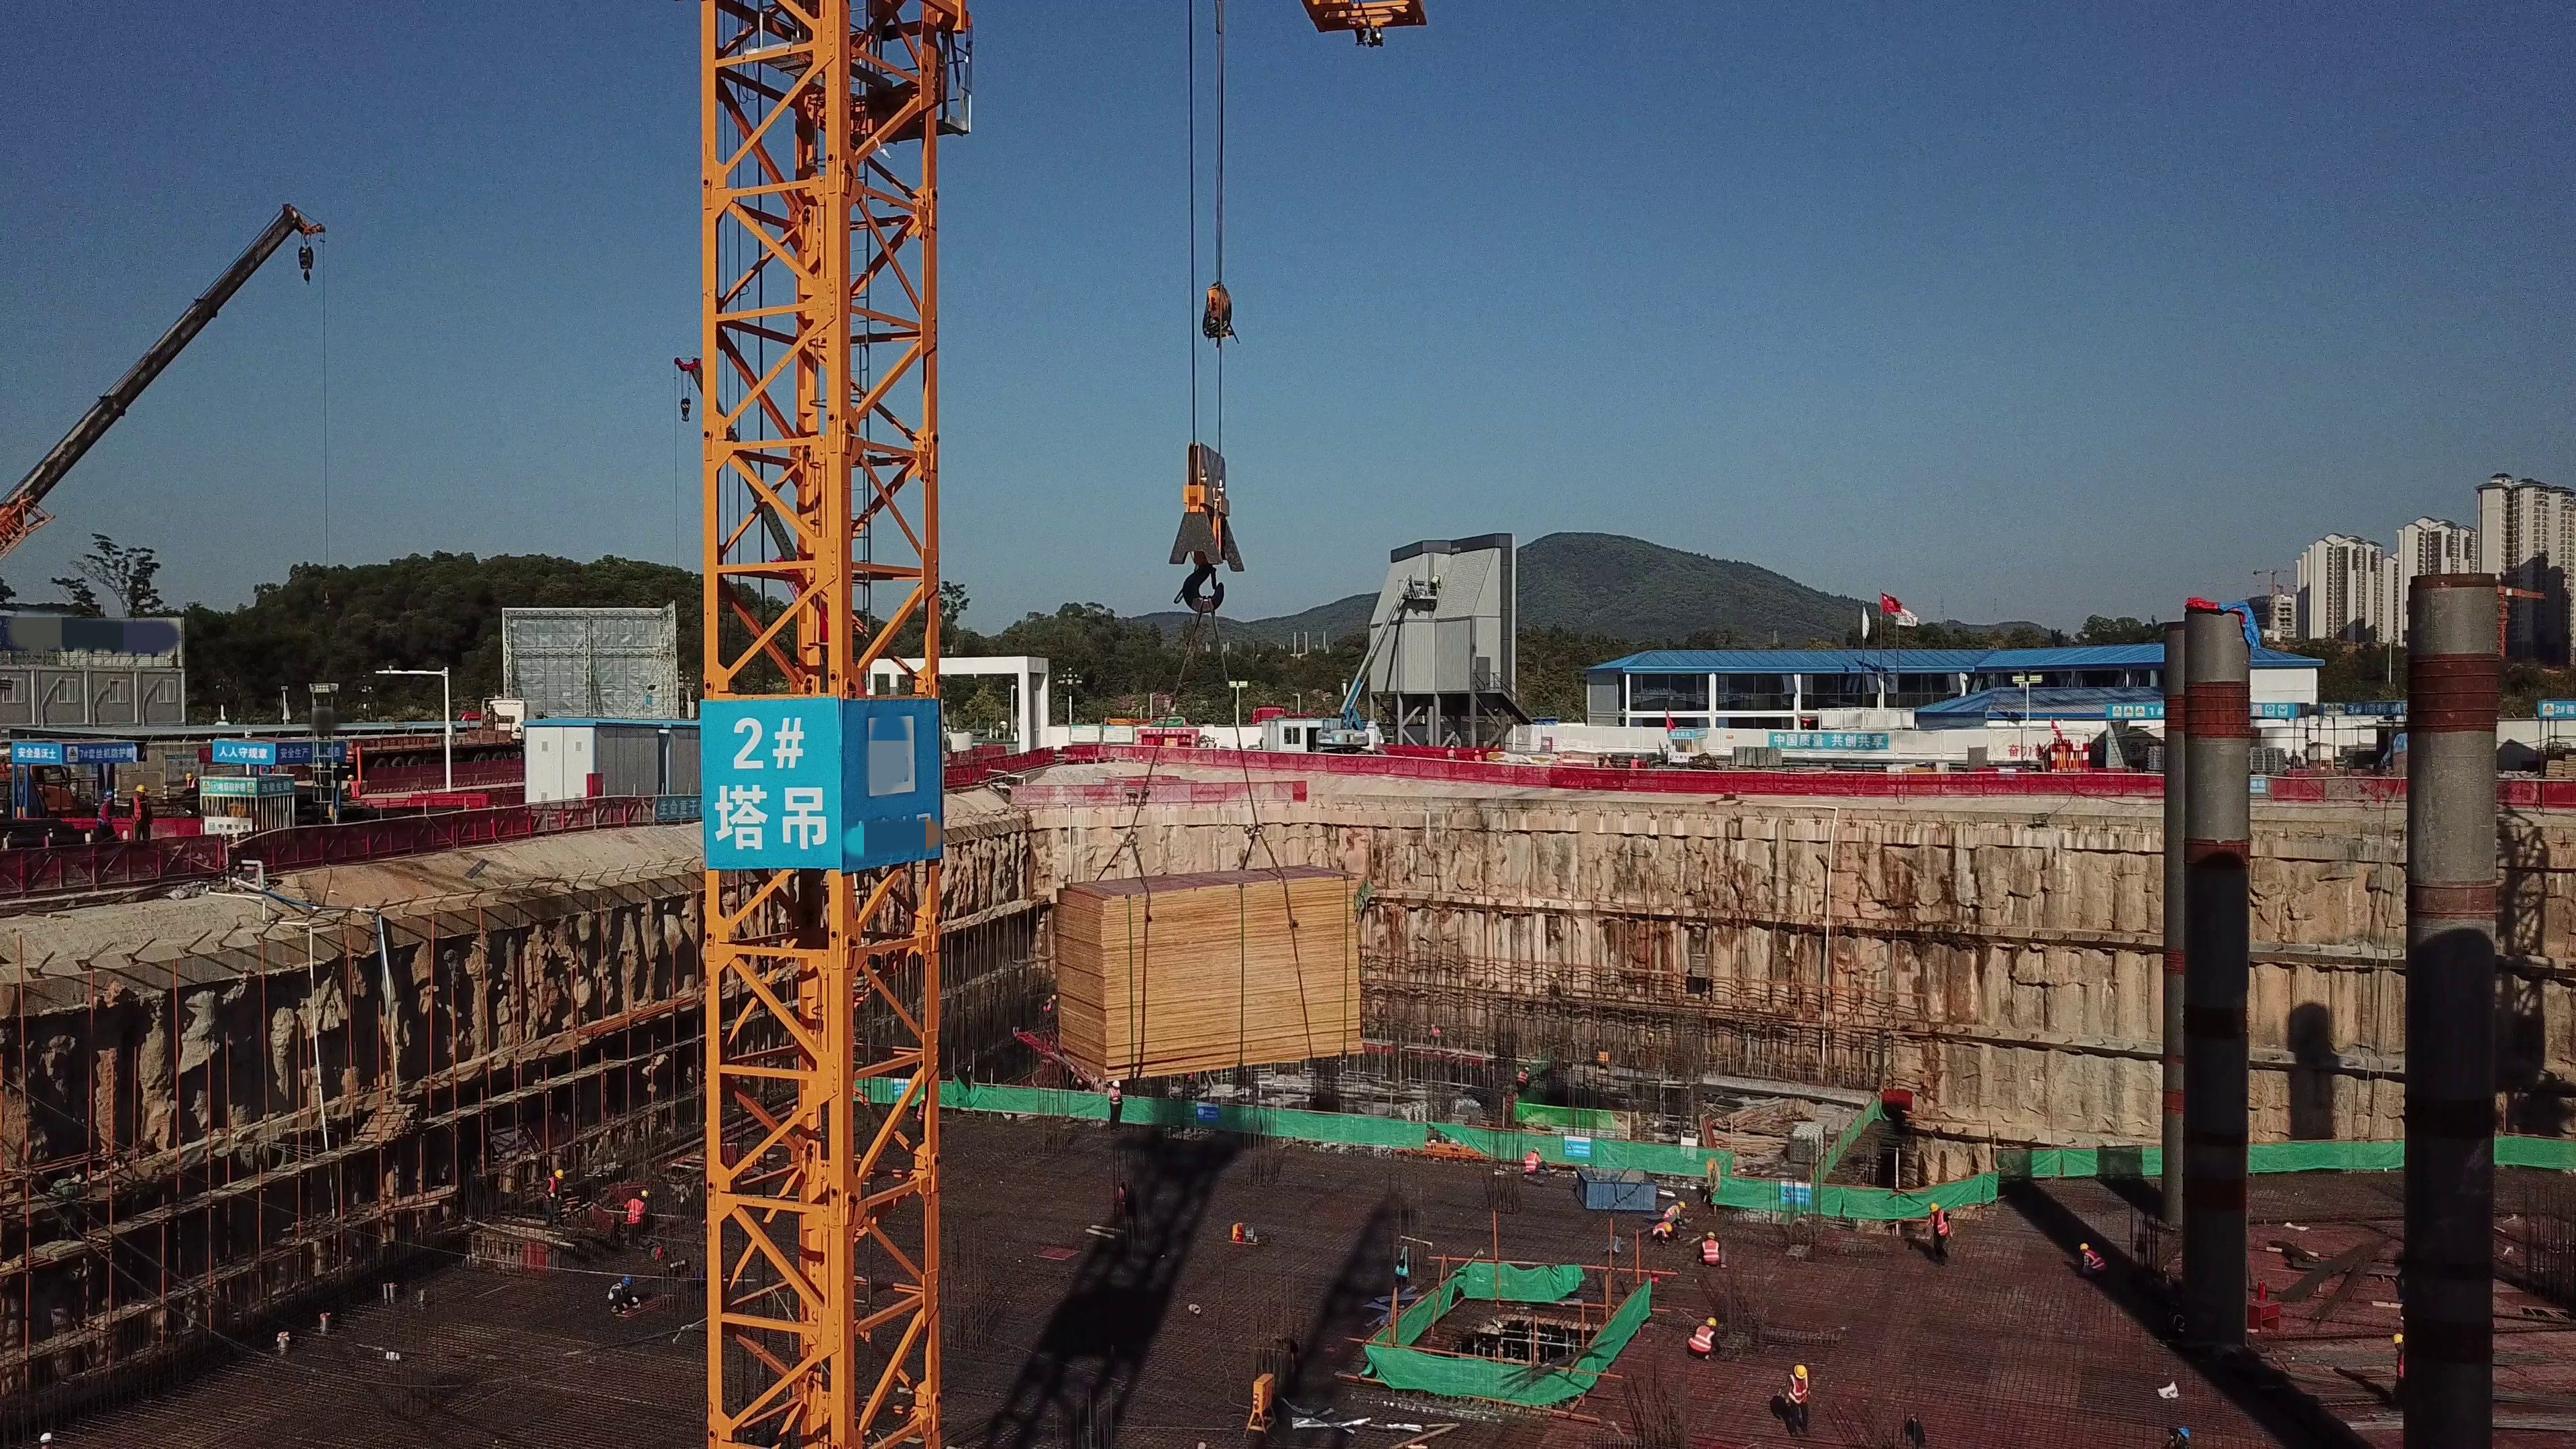helmet: (1794, 1362, 1807, 1377), (134, 784, 151, 794), (623, 1275, 636, 1286), (2392, 1333, 2404, 1345), (1705, 1319, 1719, 1328), (1929, 1202, 1939, 1212), (103, 790, 117, 798), (555, 1169, 566, 1179), (1707, 1230, 1717, 1239), (1532, 1145, 1541, 1154), (1111, 1079, 1122, 1087), (1677, 1199, 1687, 1207), (186, 772, 193, 780), (920, 1094, 928, 1102), (1666, 1224, 1672, 1234), (2079, 1244, 2089, 1250), (346, 775, 356, 780), (639, 1190, 648, 1197), (1051, 994, 1059, 1000), (1524, 1067, 1531, 1072), (1449, 743, 1456, 748), (1474, 749, 1480, 754), (1606, 752, 1612, 757), (1634, 754, 1639, 759), (1557, 755, 1560, 758)
person: (1779, 1364, 1815, 1434), (537, 1165, 572, 1230), (1923, 1201, 1954, 1268), (623, 1189, 651, 1249), (1686, 1317, 1721, 1364), (2387, 1327, 2411, 1393), (128, 785, 154, 840), (606, 1275, 641, 1314), (2075, 1242, 2112, 1280), (1521, 1147, 1558, 1181), (91, 789, 117, 839), (1104, 1079, 1126, 1136), (1695, 1232, 1723, 1268), (1652, 1221, 1680, 1244), (1663, 1200, 1691, 1220), (343, 773, 365, 800), (1038, 993, 1056, 1018), (180, 769, 202, 789), (1515, 1065, 1530, 1091), (1627, 752, 1642, 769), (1599, 751, 1615, 767), (1430, 1023, 1443, 1038), (1442, 745, 1458, 759), (1469, 749, 1485, 763), (1551, 753, 1567, 766)
vest: (1689, 1327, 1715, 1355), (1789, 1377, 1811, 1405), (1702, 1240, 1721, 1267), (628, 1197, 645, 1224), (133, 796, 152, 822), (1931, 1213, 1949, 1234), (2086, 1248, 2107, 1269), (2397, 1350, 2410, 1381), (97, 802, 113, 824), (608, 1285, 627, 1301), (543, 1178, 558, 1200), (1108, 1089, 1124, 1106), (1525, 1152, 1537, 1172), (914, 1102, 926, 1120), (1652, 1220, 1666, 1236), (349, 782, 360, 797), (1041, 999, 1055, 1012), (1517, 1070, 1530, 1085), (1663, 1204, 1678, 1218), (189, 779, 196, 788), (1631, 759, 1638, 769), (1556, 759, 1564, 765), (1448, 750, 1455, 758), (1475, 756, 1481, 762)
